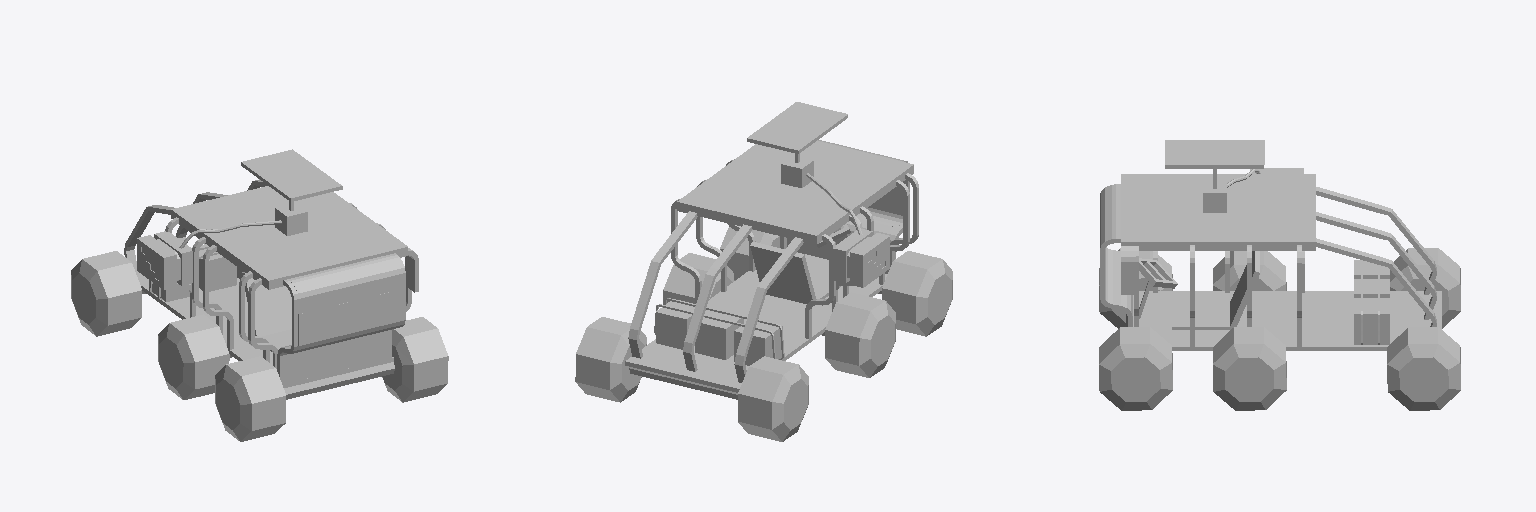
The model's file is mars_rover.obj.
3 renders of one model, left to right at view 1: azimuth 30°, elevation 25°; view 2: azimuth 150°, elevation 25°; view 3: azimuth 270°, elevation 25°, orthographic.
Visible parts, largest first — view 1: RoofRover, WheelFrontRight, WheelBackRight, WheelMiddleRight, WheelFrontLeft, WindowFront1, WindowFront2, WindowFragment3, FloorRover, SolarPlane, Battery, Seat001 (+4 smaller); view 2: RoofRover, FloorRover, WheelBackRight, WheelMiddleRight, WheelFrontRight, WheelBackLeft, SolarPlane, Battery, Seat001, CaseBack2, CaseBack3, CaseBack1 (+9 smaller); view 3: RoofRover, FloorRover, WheelBackLeft, WheelFrontLeft, WheelMiddleLeft, SolarPlane, WheelBackRight, WheelMiddleRight, Container, Seat, CaseBack1, CaseBack2 (+9 smaller).
Part boxes in pixels (x1,y1,x2,y2): RoofRover: (171,186,407,289); WheelFrontRight: (215,356,285,441); WheelBackRight: (71,251,141,336); WheelMiddleRight: (158,314,229,399); WheelFrontLeft: (382,317,448,402); WindowFront1: (290,290,400,352); WindowFront2: (288,254,401,313); WindowFragment3: (283,330,390,383); FloorRover: (137,272,393,387); SolarPlane: (242,149,341,197); Battery: (137,231,192,289); Seat001: (242,272,291,336); RoofRover: (677,141,913,244); FloorRover: (625,254,887,392); WheelBackRight: (738,356,808,441); WheelMiddleRight: (825,292,895,377); WheelFrontRight: (882,251,952,336); WheelBackLeft: (575,317,646,402); SolarPlane: (748,102,847,149); Battery: (834,229,889,287); Seat001: (750,242,815,303); CaseBack2: (683,224,752,371); CaseBack3: (628,211,697,358); CaseBack1: (734,237,803,382); RoofRover: (1121,174,1315,250); FloorRover: (1133,291,1441,350); WheelBackLeft: (1387,327,1460,410); WheelFrontLeft: (1099,327,1172,410); WheelMiddleLeft: (1213,327,1286,410); SolarPlane: (1165,140,1264,164); WheelBackRight: (1390,248,1460,328); WheelMiddleRight: (1213,251,1286,290); Container: (1354,298,1389,344); Seat: (1172,302,1230,329); CaseBack1: (1316,187,1436,294); CaseBack2: (1316,212,1436,319).
Size of the model in its own units: 5.04 by 4.72 by 7.37.